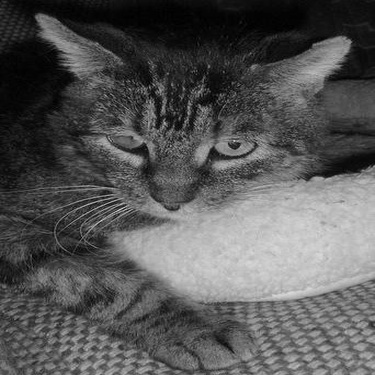cat: (9, 6, 346, 350)
